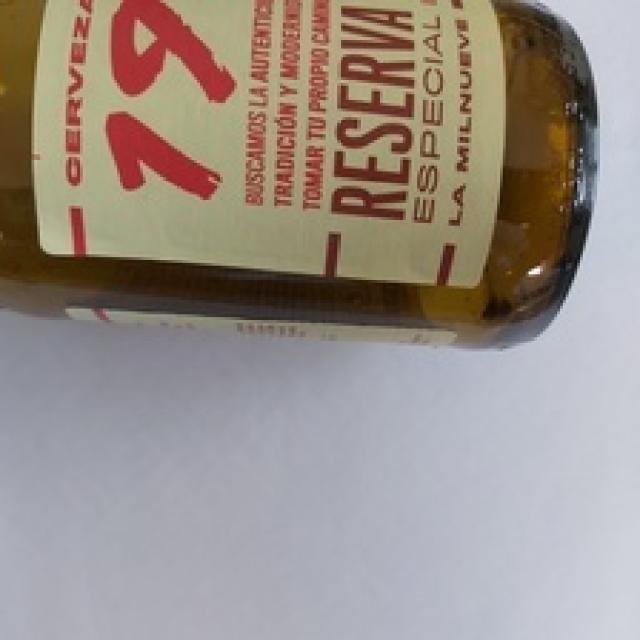Glass: (0, 0, 605, 349)
